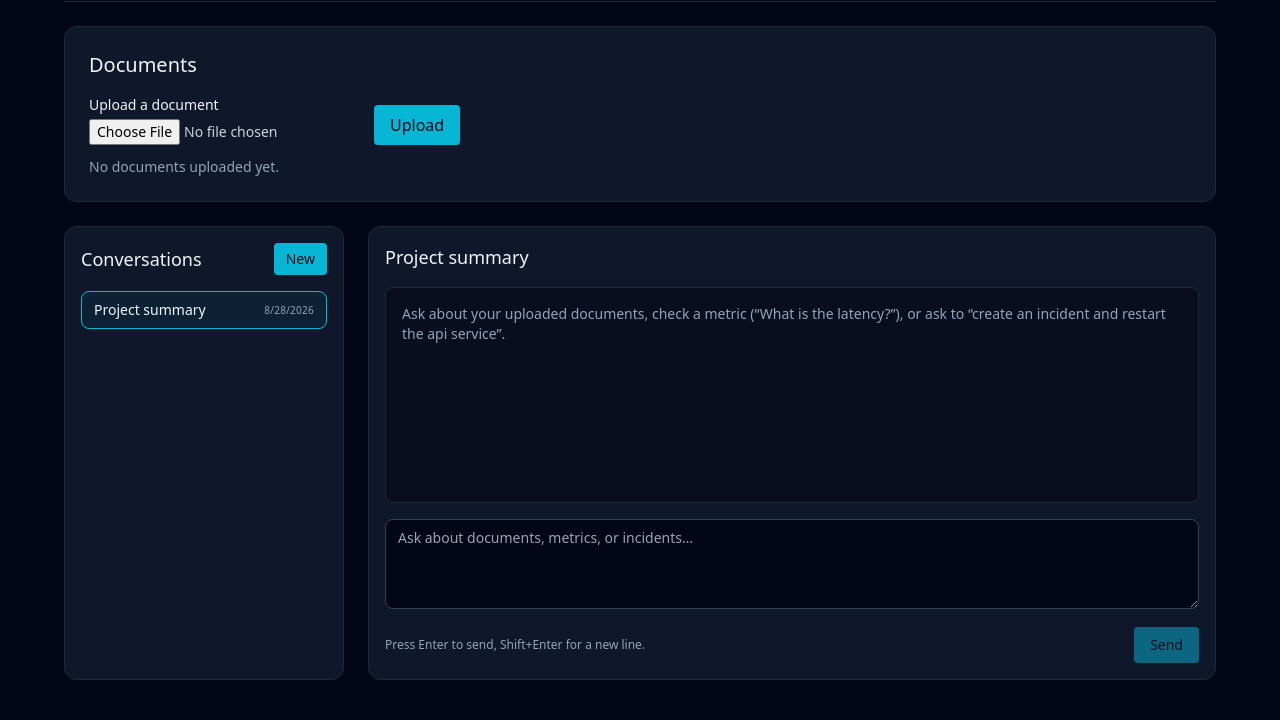
it: HomePage › renders streamed permission errors in the assistant response
(page scrolled)
Check: the heading "Project summary" is shown, box x1=385 y1=245 x2=529 y2=269
In the text box named "Chat message": (792, 564) x1=385 y1=519 x2=1199 y2=609, type "Create an incident for the api service."
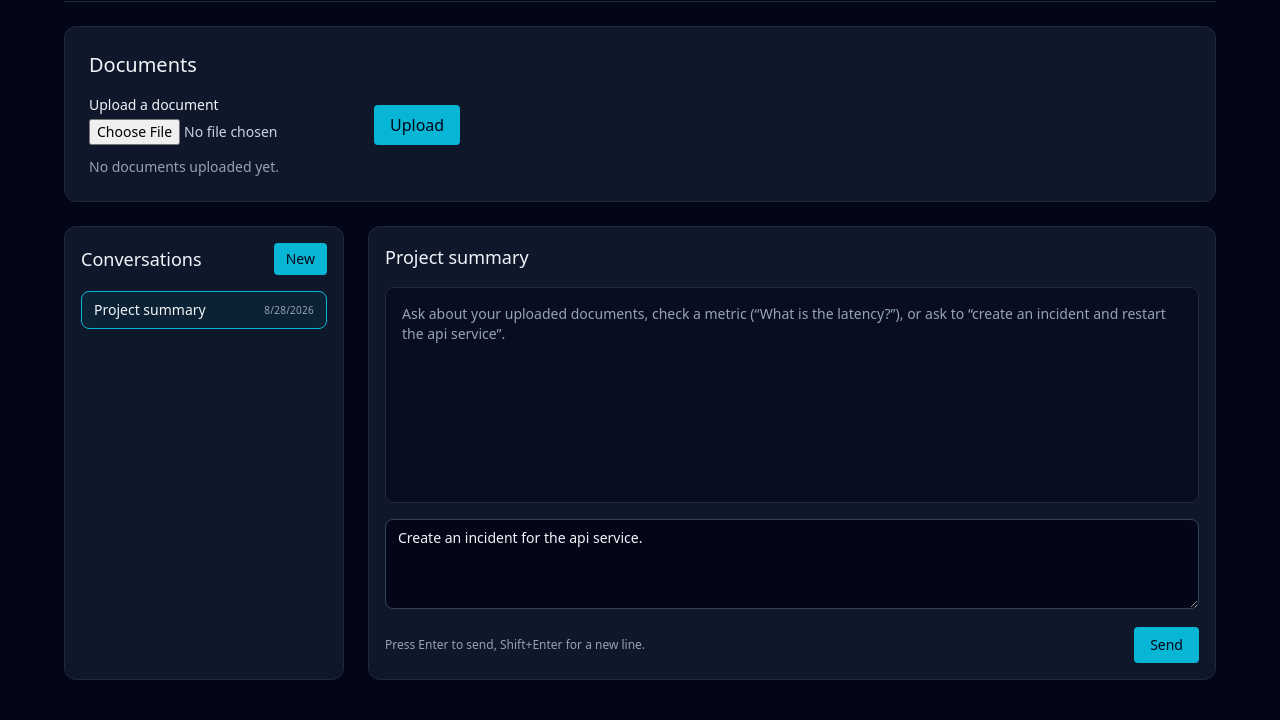
Click the button "Send": click(1167, 645) x1=1134 y1=627 x2=1199 y2=663
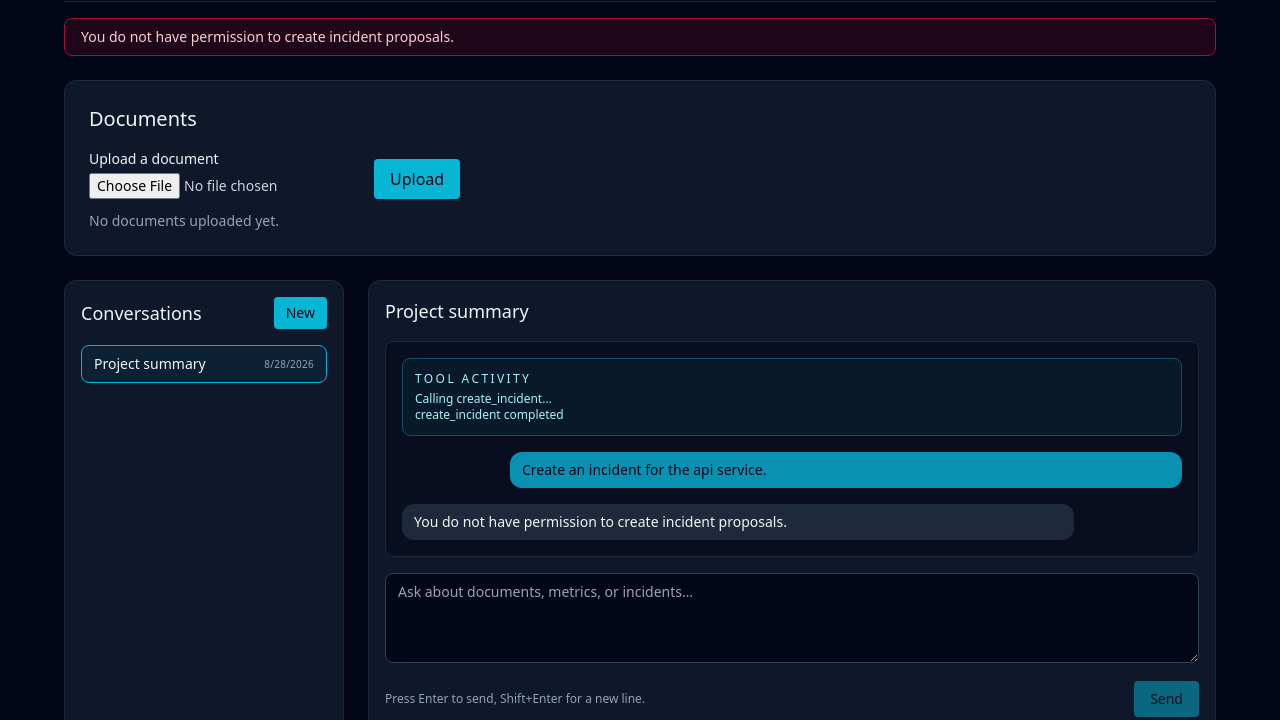
Check: the text "You do not have permission to create incident proposals." is shown 2 times, box x1=64 y1=18 x2=1216 y2=56; x1=414 y1=512 x2=787 y2=531
Check: the element labelled "Tool activity" shows "create_incident completed", box x1=415 y1=406 x2=564 y2=423
